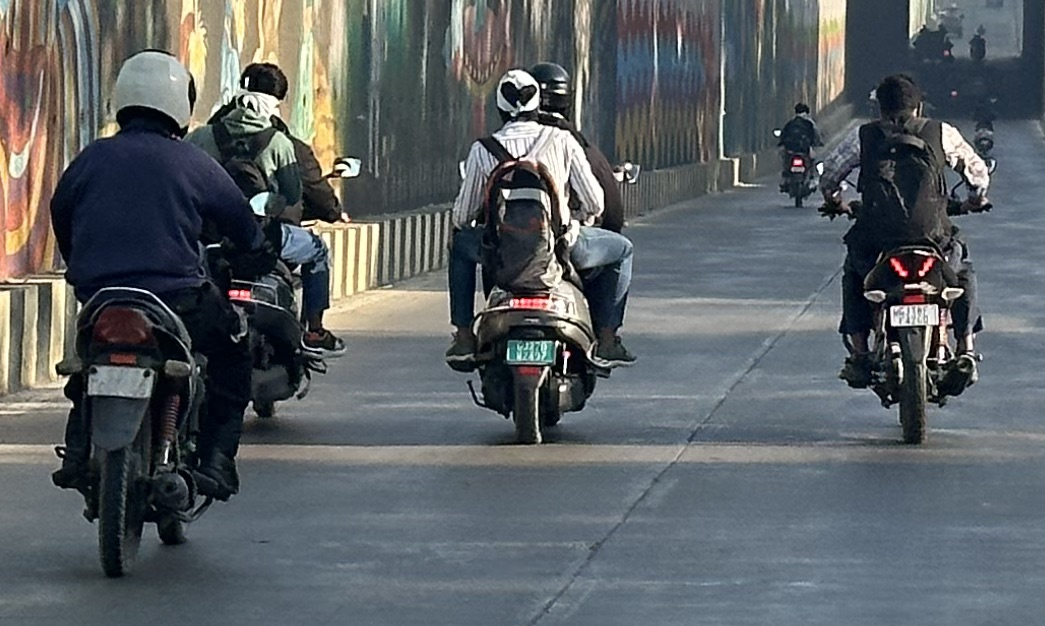BikeWithRider: (35, 42, 281, 585), (433, 53, 648, 449), (809, 65, 1000, 451), (178, 53, 366, 428), (768, 95, 831, 211)
Helmet: (103, 43, 203, 142), (520, 55, 578, 131)
NoHelmet: (229, 55, 297, 119), (485, 63, 548, 131), (866, 68, 931, 132)
